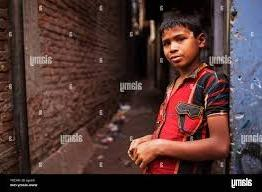Human: (132, 12, 227, 181)
